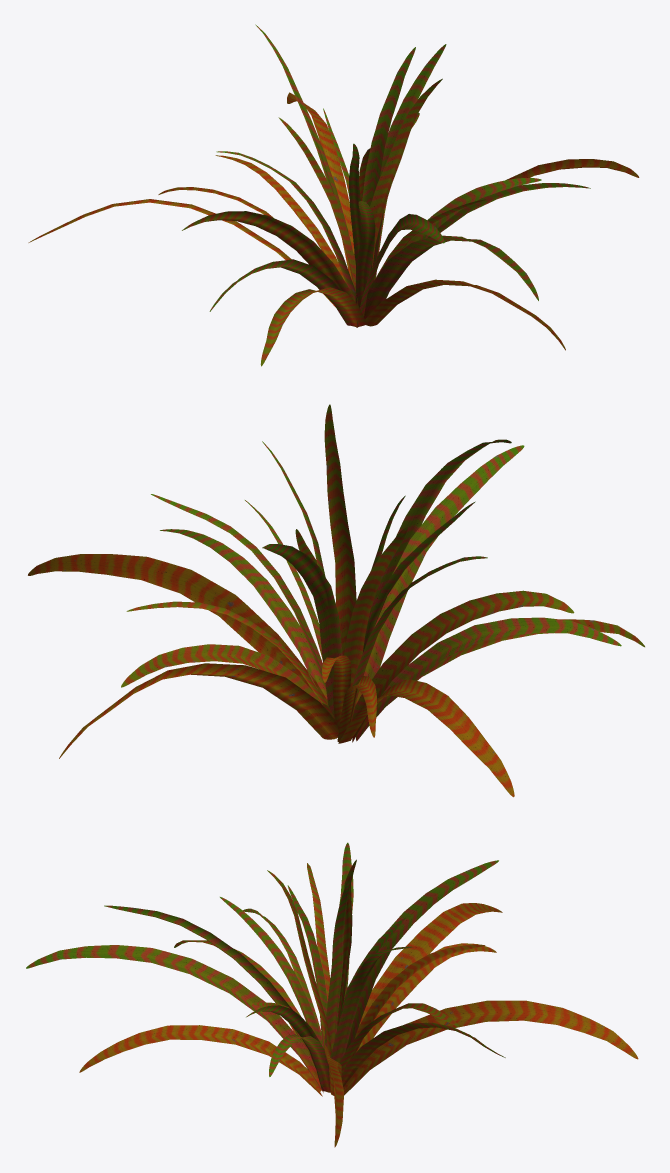
File: PLant_10_1_L0.fbx
The picture shows the model from 3 angles, top to bottom: view 1: azimuth 30°, elevation 25°; view 2: azimuth 150°, elevation 25°; view 3: azimuth 270°, elevation 25°; orthographic projection. The views are drawn at different scales.
Parts seen in each view (by area): view 1: polySurface1; view 2: polySurface1; view 3: polySurface1.
Part boxes in pixels (x1,y1,x2,y2): polySurface1: (28, 24, 639, 366); polySurface1: (28, 404, 644, 797); polySurface1: (26, 842, 638, 1147).
Size of the model in its own units: 330 by 155 by 355.
